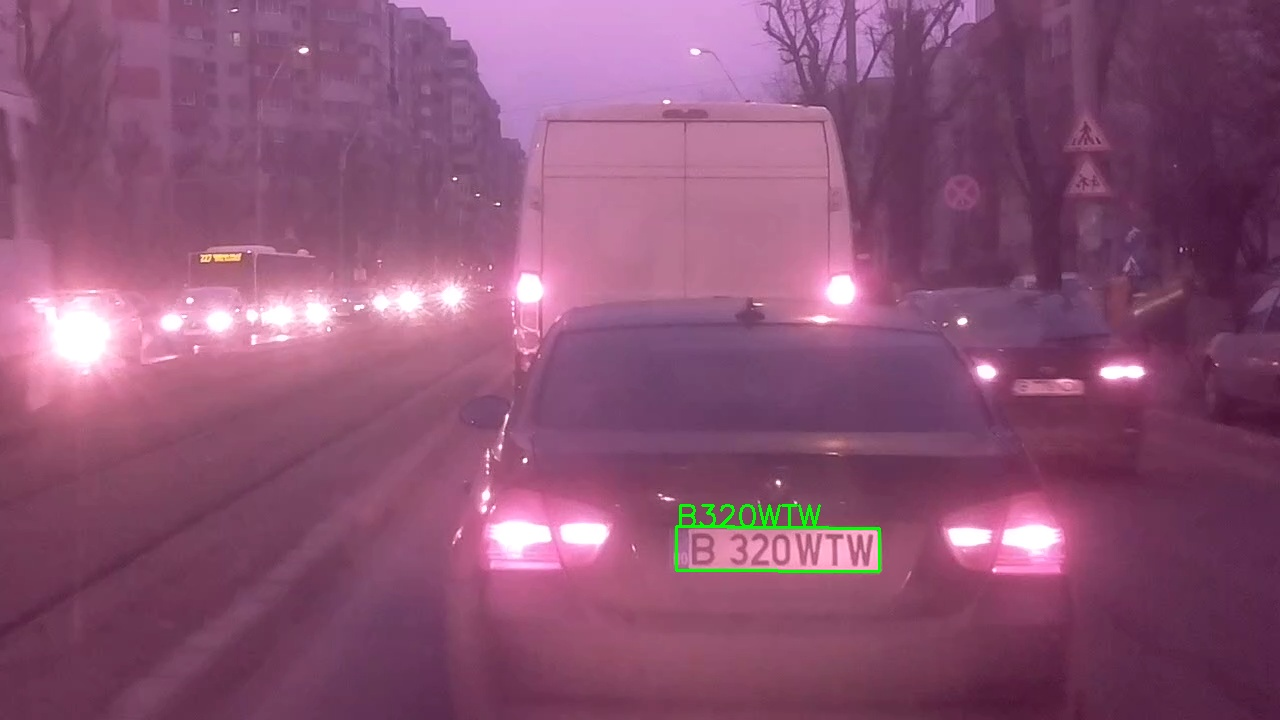license-plate: (675, 526, 881, 573)
